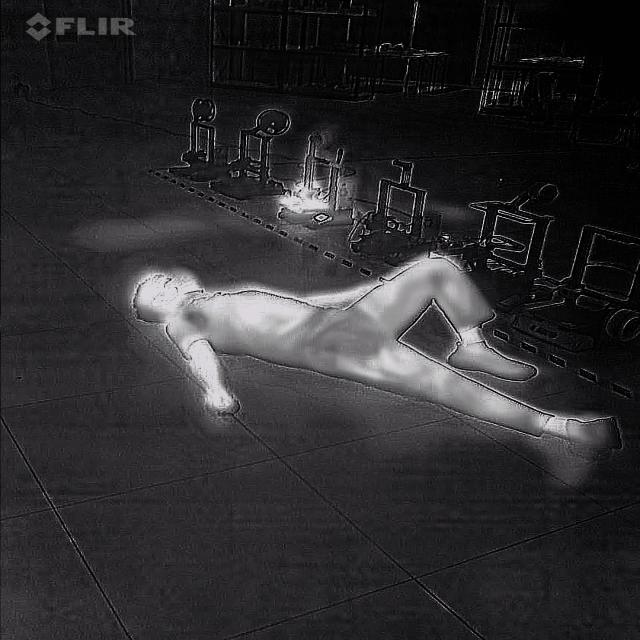Victim: (126, 250, 625, 455)
